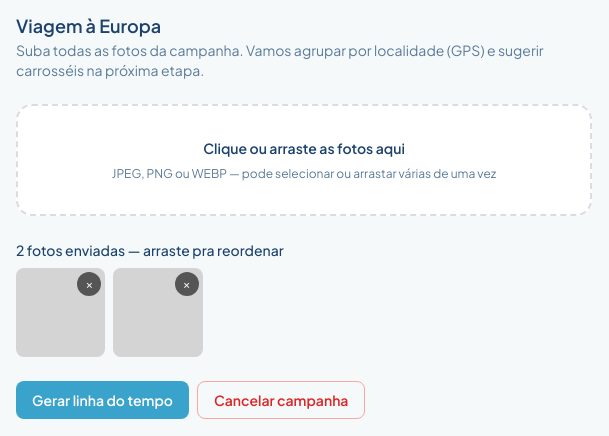
Test: CampaignUploadPage › deletes a photo when its remove button is clicked and confirmed
Expected: the text "2 fotos enviadas — arraste pra reordenar" is shown, [16,241,284,259]
Click the button named "Remover foto". click: (89, 284)
box: [77,272,101,296]
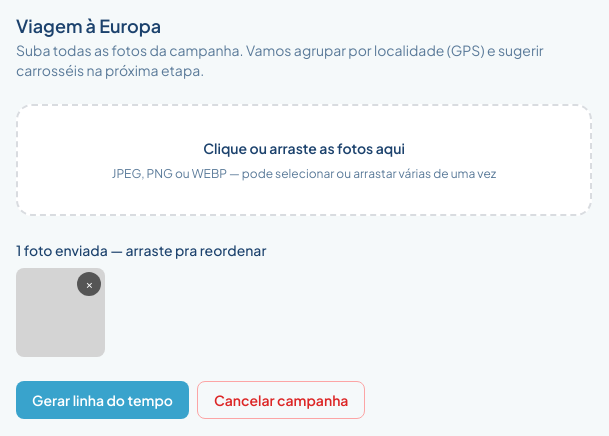
Expected: the text "1 foto enviada — arraste pra reordenar" is shown, [16,241,266,259]
